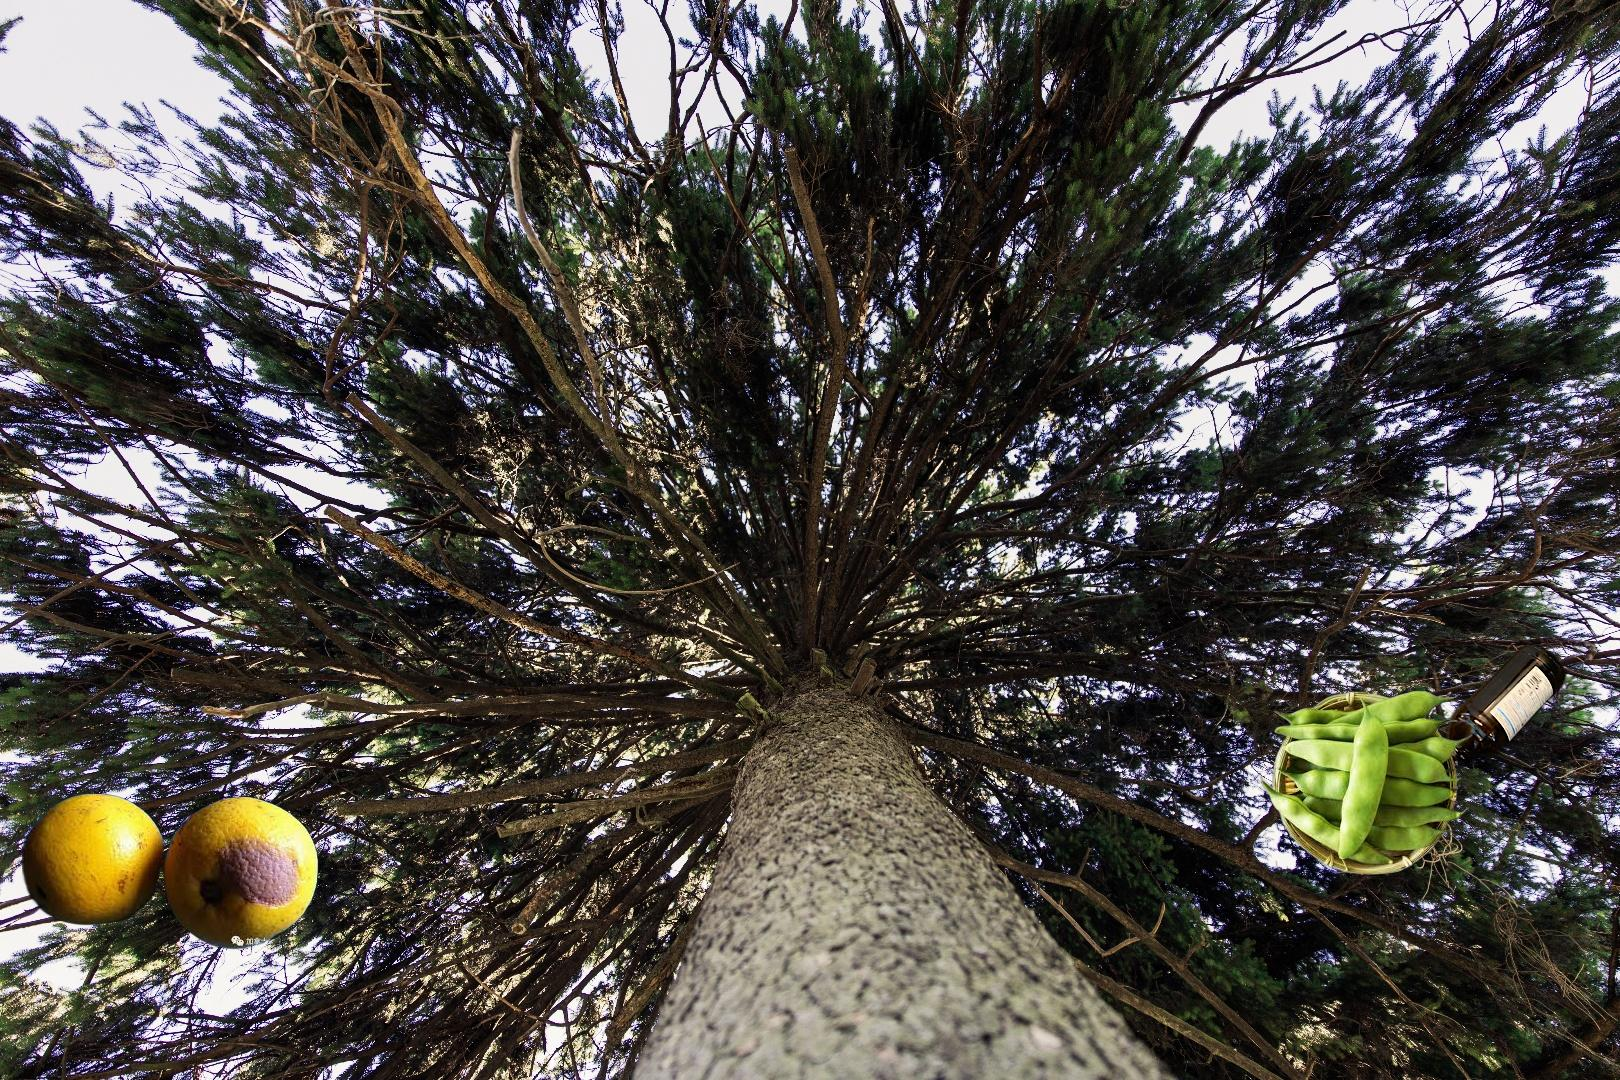biological: (22, 790, 321, 952), (1258, 688, 1475, 877)
glass: (1402, 638, 1569, 812)
